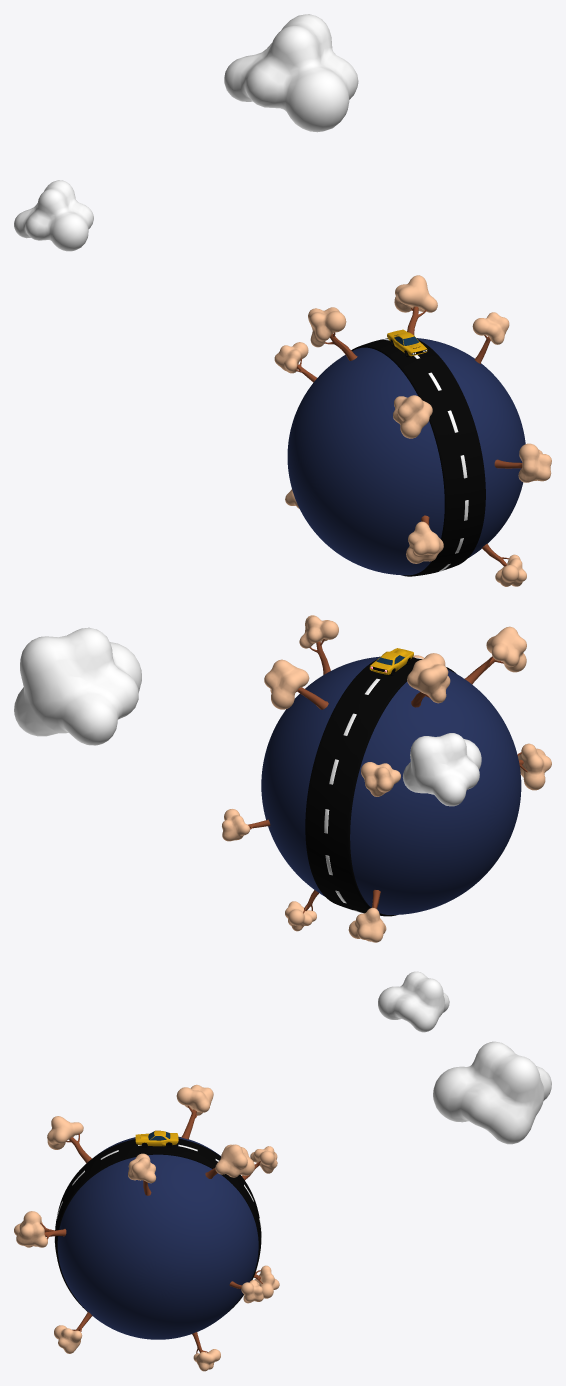
The model's file is car_world8.glb.
The picture shows the model from 3 angles, top to bottom: view 1: azimuth 30°, elevation 25°; view 2: azimuth 150°, elevation 25°; view 3: azimuth 270°, elevation 25°; orthographic projection. The views are drawn at different scales.
Parts seen in each view (by area): view 1: Sphere, CLOUD3, ROAD, CLOUD1, THREE10, THREE00, THREE01, THREE03, THREE04, THREE02, THREE05, THREE09; view 2: Sphere, CLOUD3, ROAD, CLOUD1, THREE10, THREE00, THREE01, THREE04, THREE02, THREE07, THREE09, THREE08 (+2 smaller); view 3: Sphere, CLOUD3, ROAD, CLOUD1, THREE10, THREE00, THREE01, THREE03, THREE02, THREE05, THREE09, THREE06 (+1 smaller).
Boxes of the visible parts, x1,y1,x2,y2 form: Sphere: [287, 338, 525, 575]; CLOUD3: [224, 14, 358, 132]; ROAD: [351, 338, 485, 576]; CLOUD1: [14, 180, 93, 251]; THREE10: [394, 275, 437, 335]; THREE00: [308, 307, 357, 360]; THREE01: [393, 395, 432, 438]; THREE03: [494, 443, 551, 482]; THREE04: [406, 515, 443, 563]; THREE02: [472, 312, 509, 363]; THREE05: [482, 543, 526, 586]; THREE09: [274, 342, 316, 382]; Sphere: [261, 656, 521, 914]; CLOUD3: [14, 627, 141, 745]; ROAD: [305, 657, 456, 916]; CLOUD1: [403, 733, 481, 806]; THREE10: [264, 659, 328, 709]; THREE00: [407, 653, 450, 707]; THREE01: [464, 626, 526, 684]; THREE04: [517, 743, 551, 790]; THREE02: [299, 615, 338, 674]; THREE07: [348, 890, 386, 942]; THREE09: [361, 762, 400, 796]; THREE08: [222, 809, 270, 841]; Sphere: [57, 1136, 258, 1339]; CLOUD3: [433, 1041, 551, 1144]; ROAD: [55, 1138, 261, 1313]; CLOUD1: [378, 971, 449, 1032]; THREE10: [205, 1144, 254, 1178]; THREE00: [176, 1084, 213, 1139]; THREE01: [47, 1116, 91, 1163]; THREE03: [16, 1211, 66, 1247]; THREE02: [128, 1153, 156, 1195]; THREE05: [54, 1312, 92, 1353]; THREE09: [242, 1146, 277, 1180]; THREE06: [192, 1332, 220, 1371].
Size of the model in its own units: 6.33 by 6.41 by 9.27.
